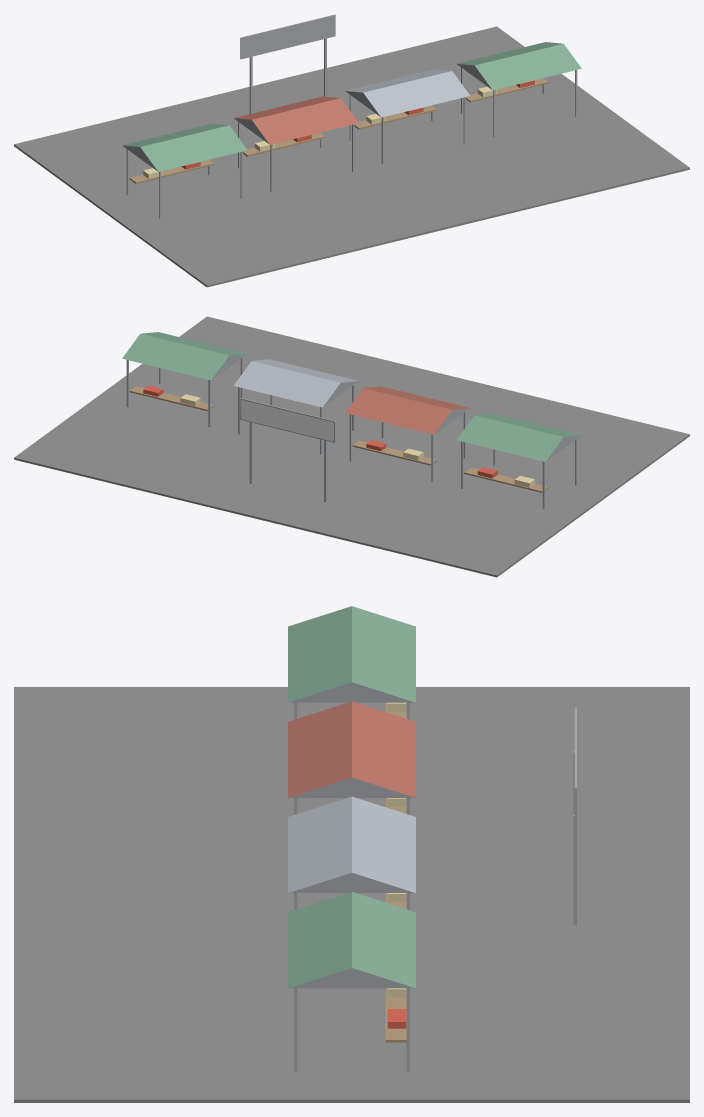
The model's file is town_market.glb.
3 views of the same model, one above another, from view 1: azimuth 30°, elevation 25°; view 2: azimuth 150°, elevation 25°; view 3: azimuth 270°, elevation 25° (orthographic). The views are drawn at different scales.
Visible parts, largest first — view 1: town_market; view 2: town_market; view 3: town_market.
Boxes of the visible parts, x1,y1,x2,y2 form: town_market: [14, 14, 689, 287]; town_market: [14, 316, 689, 577]; town_market: [14, 606, 689, 1102].
Size of what is drawn, in the model's own units: 26 by 4.37 by 18.
